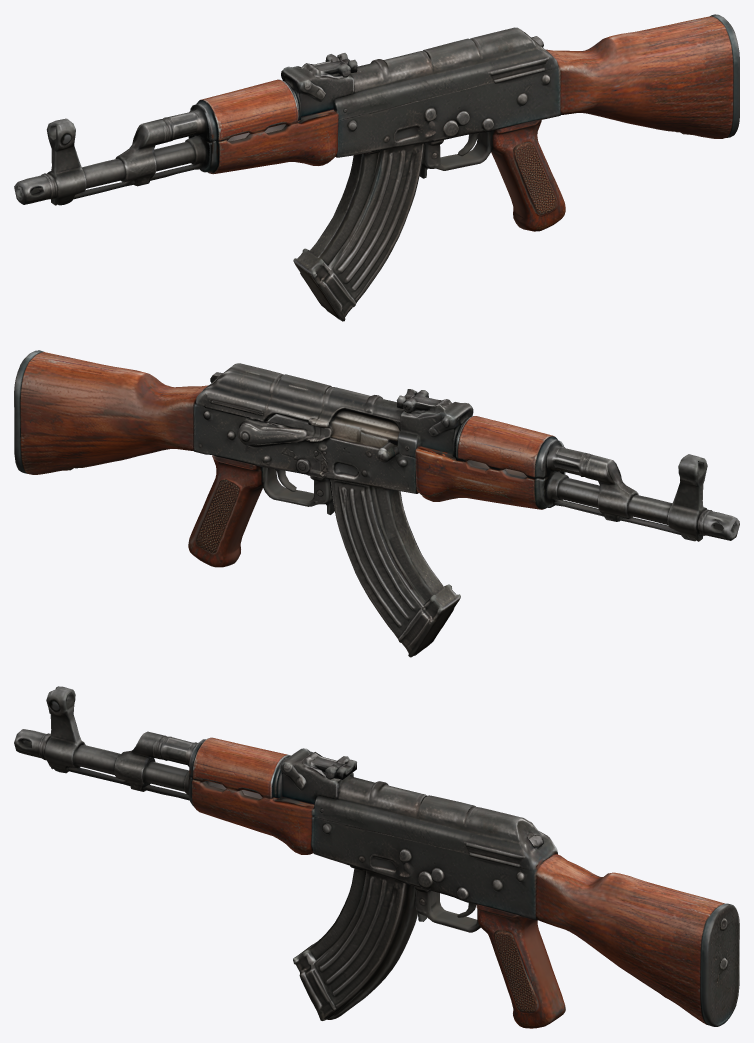
Rendered from rifle.glb.
3 views of the same model, one above another, from view 1: azimuth 30°, elevation 25°; view 2: azimuth 150°, elevation 25°; view 3: azimuth 330°, elevation 25° (orthographic).
Visible parts, largest first — view 1: AK; view 2: AK; view 3: AK.
Boxes of the visible parts, x1,y1,x2,y2 form: AK: (14,14,739,321); AK: (14,350,739,657); AK: (14,686,739,1028).
Size of the model in its own units: 1 by 0.3533 by 0.0988.
Materials: 1 (1 with a texture image).
